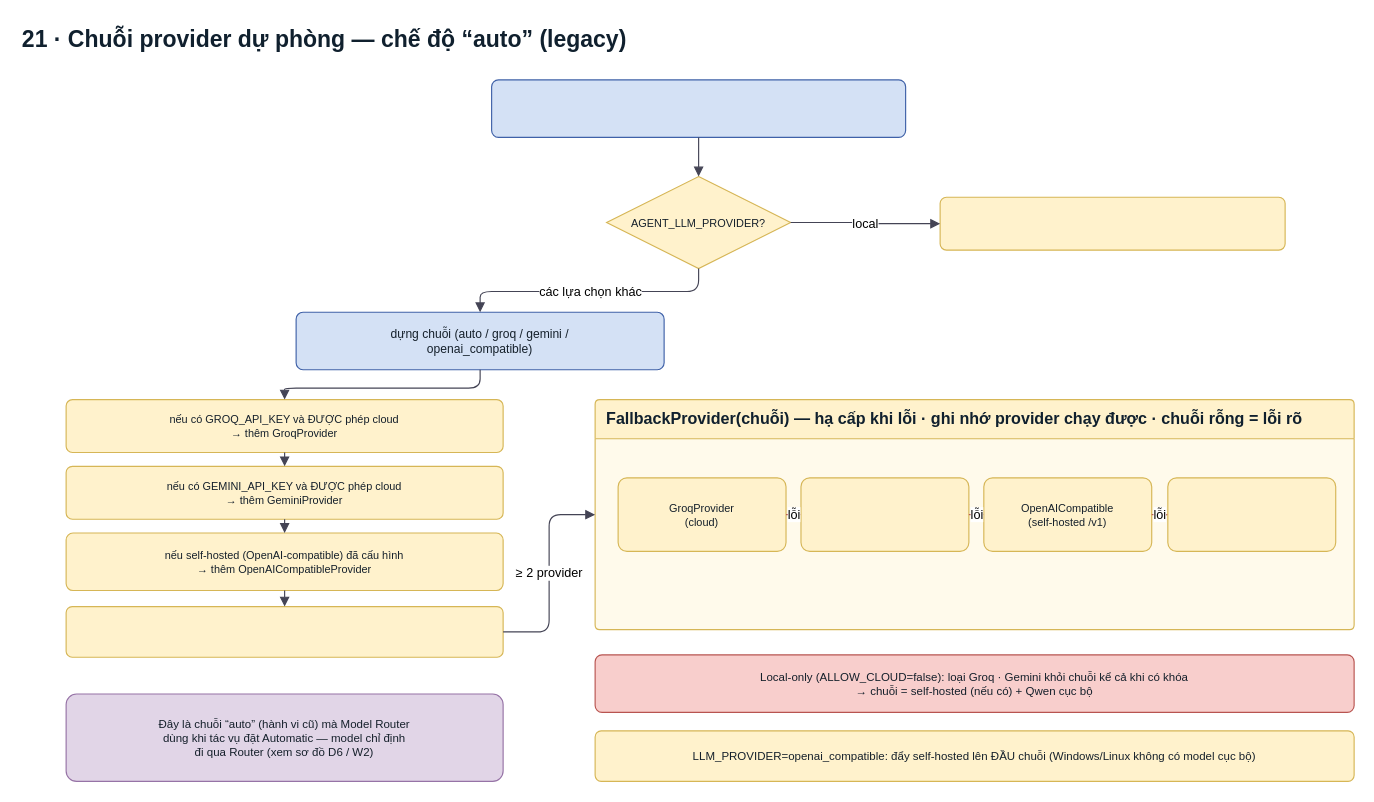
The diagram is 1374 pixels wide and 802 high, and some of its shapes have lost their labels. The shapes that lost their labels are listed below. From the top down, each one's centre as x and y in pixels, then its label:
At [698,108]: "get_default_provider() đọc AGENT_LLM_PROVIDER (mặc định: auto)".
At [1112,223]: "chỉ LocalQwenProvider".
At [884,514]: "GeminiProvider (cloud)".
At [1251,514]: "LocalQwenProvider (cục bộ, cuối)".
At [284,631]: "luôn thêm LocalQwenProvider (cuối chuỗi)".
